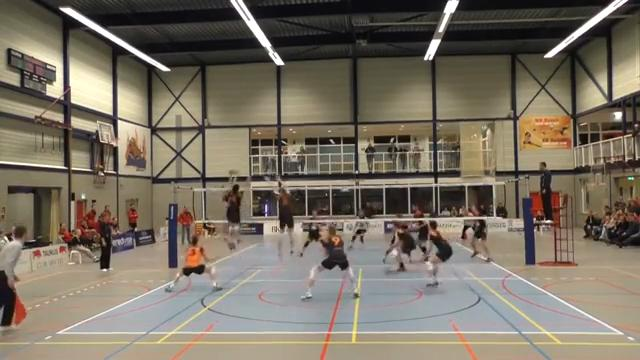muro: (269, 176, 298, 265), (219, 173, 245, 253)
